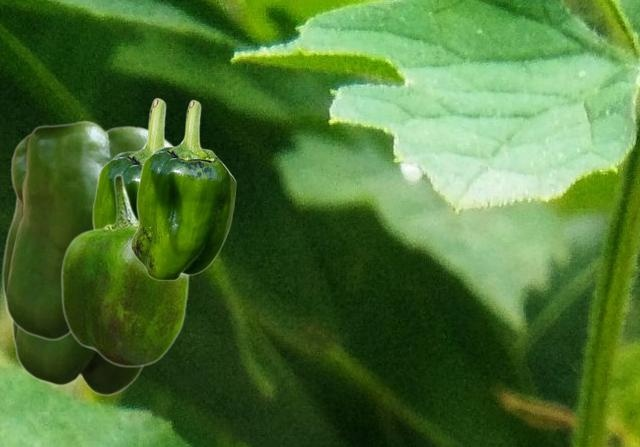bell_pepper: (1, 120, 174, 350), (60, 173, 190, 367), (130, 99, 235, 280), (91, 97, 166, 227), (11, 322, 143, 395)
